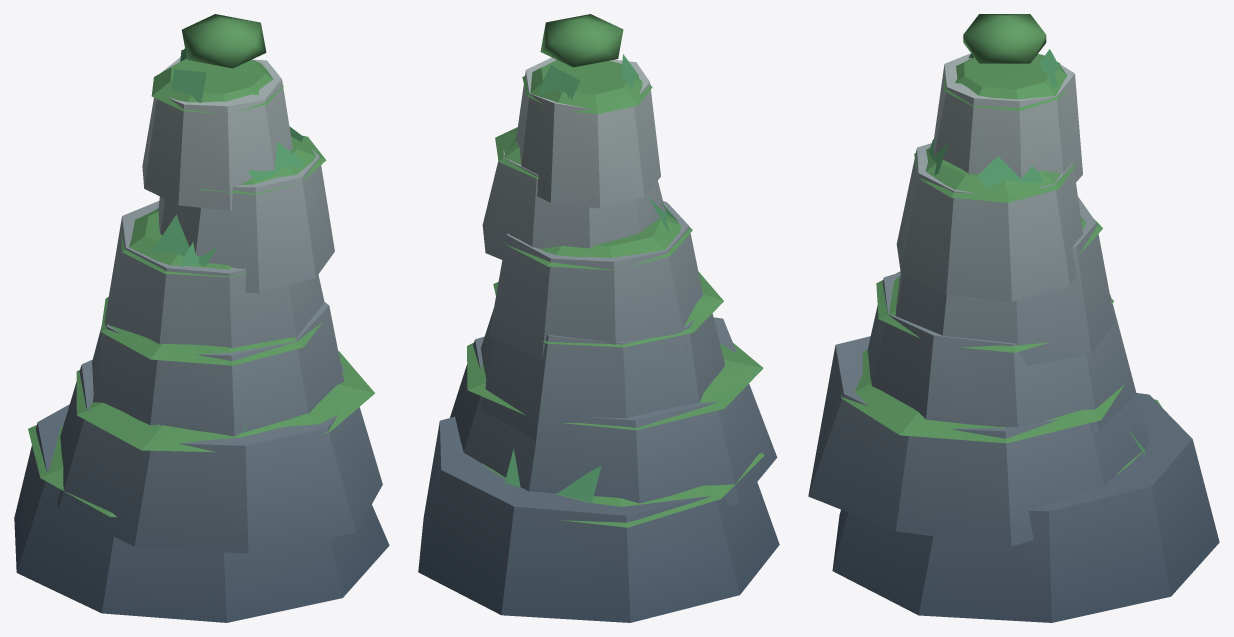
File: karst_c.glb
3 views of the same model, side by side, from view 1: azimuth 30°, elevation 25°; view 2: azimuth 150°, elevation 25°; view 3: azimuth 270°, elevation 25° (orthographic). The views are drawn at different scales.
Visible parts, largest first — view 1: Karst, Leaves; view 2: Karst, Leaves; view 3: Karst, Leaves.
Part boxes in pixels (left/top/right/bottom): Karst: left=14, top=14, right=389, bottom=622; Leaves: left=151, top=48, right=304, bottom=432; Karst: left=418, top=14, right=779, bottom=622; Leaves: left=505, top=54, right=678, bottom=502; Karst: left=808, top=14, right=1219, bottom=622; Leaves: left=867, top=49, right=1145, bottom=455.
Size of the model in its own units: 26.76 by 41.61 by 28.88.
